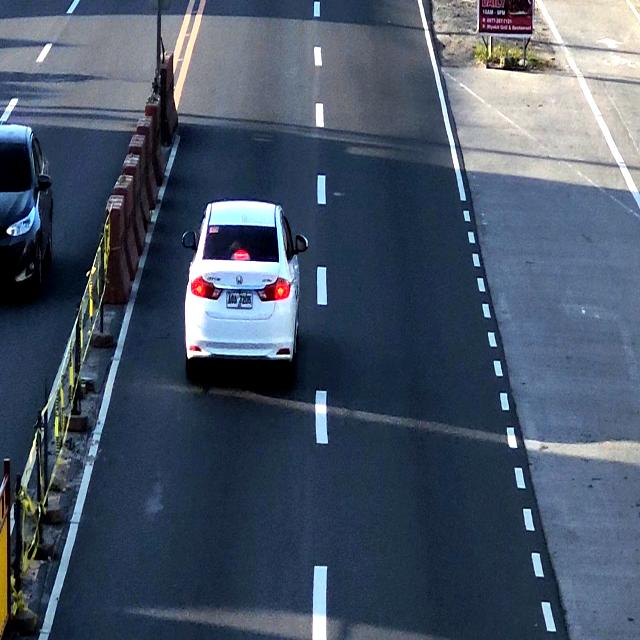Car: (179, 190, 306, 390)
License-Plate: (226, 292, 254, 308)
